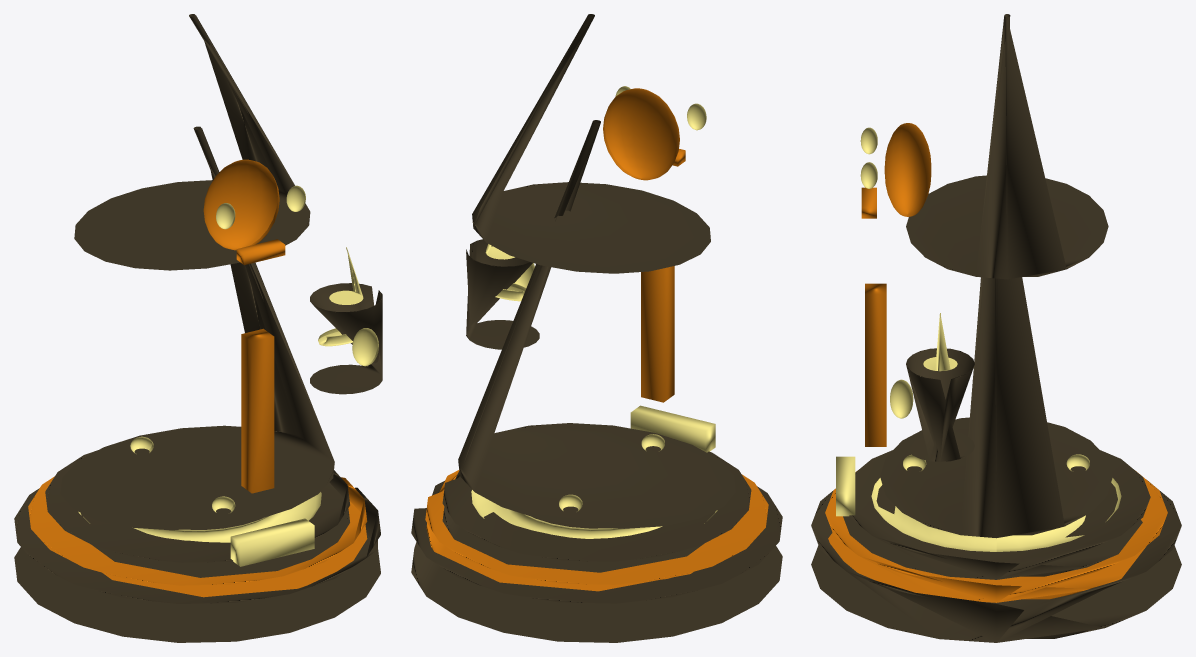
The model's file is low_flame.glb.
The picture shows the model from 3 angles, left to right: view 1: azimuth 30°, elevation 25°; view 2: azimuth 150°, elevation 25°; view 3: azimuth 270°, elevation 25°; orthographic projection.
Parts seen in each view (by area): view 1: low_flame_#3C3321, low_flame_#D97706, low_flame_#FEF08A; view 2: low_flame_#3C3321, low_flame_#D97706, low_flame_#FEF08A; view 3: low_flame_#3C3321, low_flame_#D97706, low_flame_#FEF08A.
Part boxes in pixels (x1,y1,x2,y2): low_flame_#3C3321: (14,14,382,642); low_flame_#D97706: (28,159,367,597); low_flame_#FEF08A: (78,185,378,566); low_flame_#3C3321: (411,14,782,642); low_flame_#D97706: (425,88,768,591); low_flame_#FEF08A: (471,86,717,538); low_flame_#3C3321: (811,14,1181,642); low_flame_#D97706: (825,123,1167,602); low_flame_#FEF08A: (836,127,1121,551).
Bounding box in the file's own units: 1.72 × 2.81 × 1.72.
